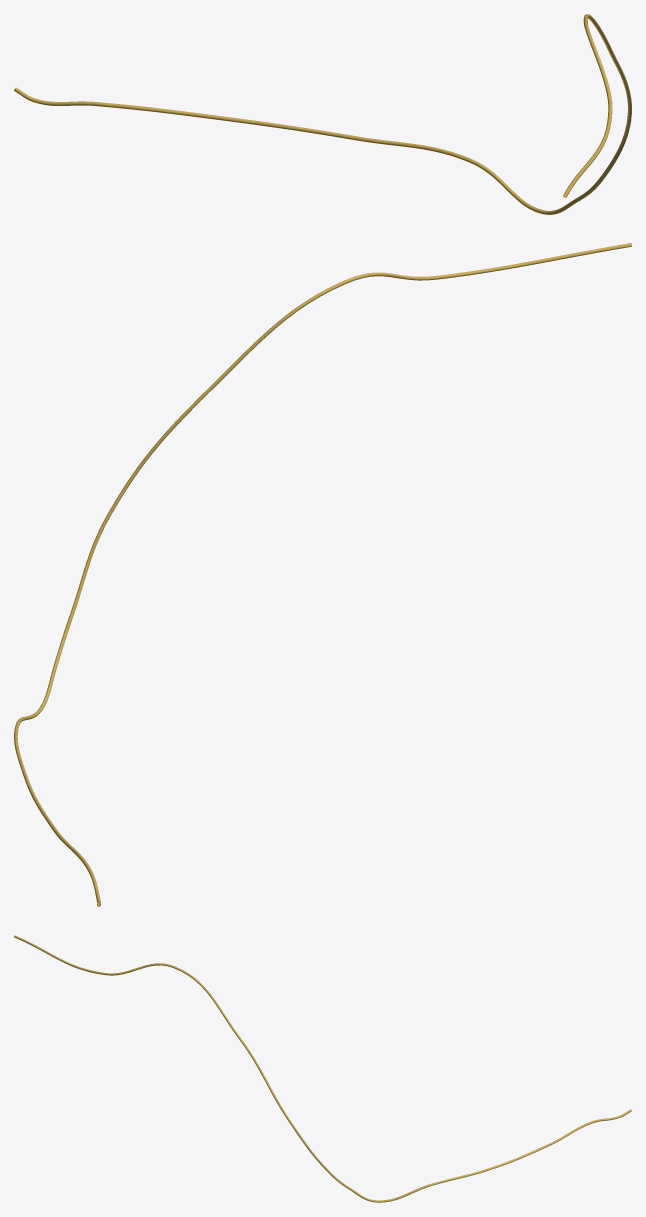
The picture shows the model from 3 angles, top to bottom: view 1: azimuth 30°, elevation 25°; view 2: azimuth 150°, elevation 25°; view 3: azimuth 270°, elevation 25°; orthographic projection. The views are drawn at different scales.
Parts seen in each view (by area): view 1: 左侧髂腹股沟神经; view 2: 左侧髂腹股沟神经; view 3: 左侧髂腹股沟神经.
Part boxes in pixels (box(x1,y1,x2,y2)): 左侧髂腹股沟神经: box(14, 14, 631, 214); 左侧髂腹股沟神经: box(14, 243, 631, 906); 左侧髂腹股沟神经: box(14, 935, 631, 1202).
Size of the model in its own units: 0.135 by 0.1441 by 0.4049.
